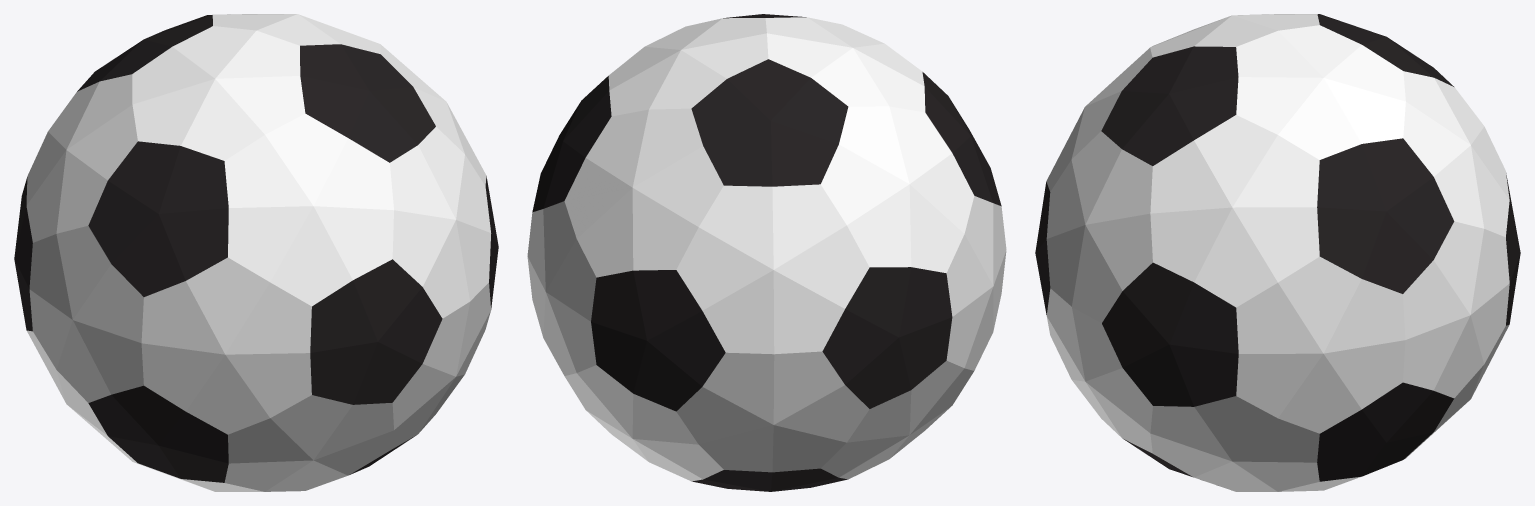
File: FootballBall.fbx
The picture shows the model from 3 angles, left to right: view 1: azimuth 30°, elevation 25°; view 2: azimuth 150°, elevation 25°; view 3: azimuth 270°, elevation 25°; orthographic projection.
Visible parts, largest first — view 1: Football Ball.001; view 2: Football Ball.001; view 3: Football Ball.001.
Part boxes in pixels (<box>): Football Ball.001: <box>14,14,498,491</box>; Football Ball.001: <box>527,14,1006,491</box>; Football Ball.001: <box>1035,14,1520,491</box>.
Bounding box in the file's own units: 21.35 × 21.88 × 21.65.
